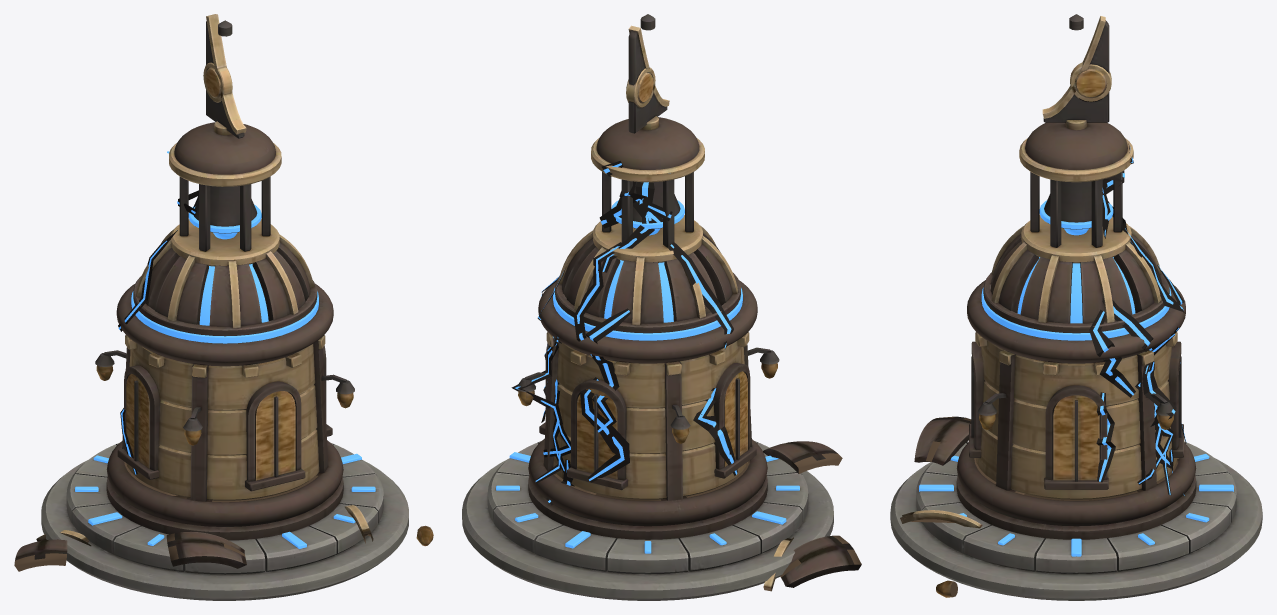
The model's file is needle_bell_serenade.glb.
3 renders of one model, left to right at view 1: azimuth 30°, elevation 25°; view 2: azimuth 150°, elevation 25°; view 3: azimuth 270°, elevation 25°, orthographic.
Parts seen in each view (by area): view 1: needle_bell_serenade_upper, needle_bell_serenade_base, needle_bell_serenade_ruin, needle_bell_serenade_glow.001, needle_bell_serenade_chip1, needle_bell_serenade_chip2, needle_bell_serenade_glow_base, needle_bell_serenade_dmg2; view 2: needle_bell_serenade_upper, needle_bell_serenade_base, needle_bell_serenade_dmg2, needle_bell_serenade_ruin, needle_bell_serenade_dmg1, needle_bell_serenade_glow.001, needle_bell_serenade_chip1, needle_bell_serenade_glow_base, needle_bell_serenade_chip2; view 3: needle_bell_serenade_upper, needle_bell_serenade_base, needle_bell_serenade_ruin, needle_bell_serenade_dmg2, needle_bell_serenade_dmg1, needle_bell_serenade_glow.001, needle_bell_serenade_chip1, needle_bell_serenade_chip2, needle_bell_serenade_glow_base.
Part boxes in pixels (x1,y1,x2,y2): needle_bell_serenade_upper: (95, 14, 354, 540); needle_bell_serenade_base: (41, 442, 408, 600); needle_bell_serenade_ruin: (14, 435, 433, 571); needle_bell_serenade_glow.001: (131, 204, 318, 343); needle_bell_serenade_chip1: (125, 20, 240, 349); needle_bell_serenade_chip2: (148, 67, 325, 377); needle_bell_serenade_glow_base: (75, 453, 375, 548); needle_bell_serenade_dmg2: (118, 151, 198, 474); needle_bell_serenade_upper: (517, 25, 779, 539); needle_bell_serenade_base: (462, 441, 833, 600); needle_bell_serenade_dmg2: (511, 161, 737, 482); needle_bell_serenade_ruin: (541, 431, 861, 591); needle_bell_serenade_dmg1: (535, 214, 654, 505); needle_bell_serenade_glow.001: (553, 200, 742, 340); needle_bell_serenade_chip1: (558, 14, 725, 365); needle_bell_serenade_glow_base: (496, 452, 799, 553); needle_bell_serenade_chip2: (637, 72, 749, 346); needle_bell_serenade_upper: (956, 16, 1196, 539); needle_bell_serenade_base: (890, 441, 1262, 600); needle_bell_serenade_ruin: (900, 416, 1182, 597); needle_bell_serenade_dmg2: (1089, 144, 1186, 468); needle_bell_serenade_dmg1: (1096, 199, 1184, 495); needle_bell_serenade_glow.001: (981, 200, 1171, 340); needle_bell_serenade_chip1: (991, 14, 1177, 346); needle_bell_serenade_chip2: (999, 69, 1106, 365); needle_bell_serenade_glow_base: (919, 454, 1233, 556).
Size of the model in its own units: 3.52 by 4.64 by 3.03.
Materials: 4 (1 with a texture image).
